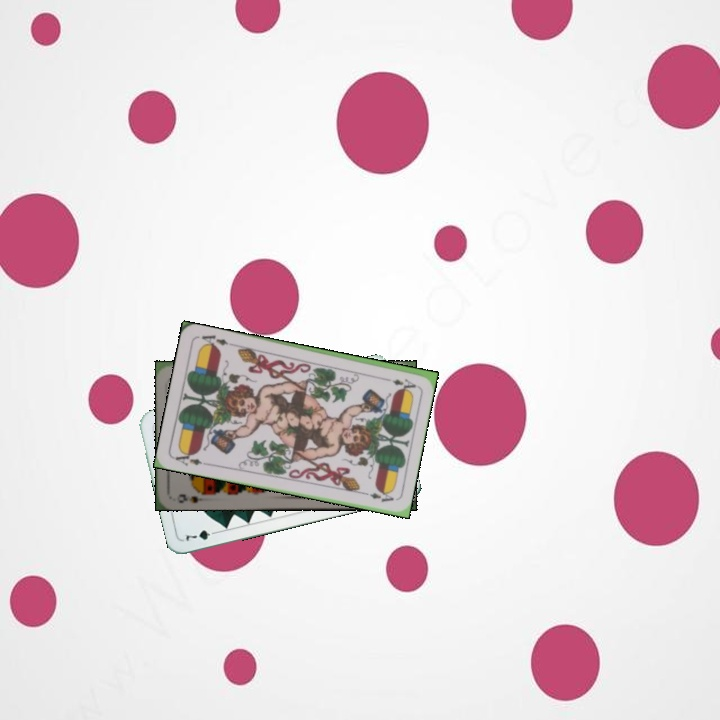EA: (171, 447, 211, 468), (378, 373, 419, 391)
G7: (180, 526, 221, 544)
S9: (175, 486, 211, 505)
